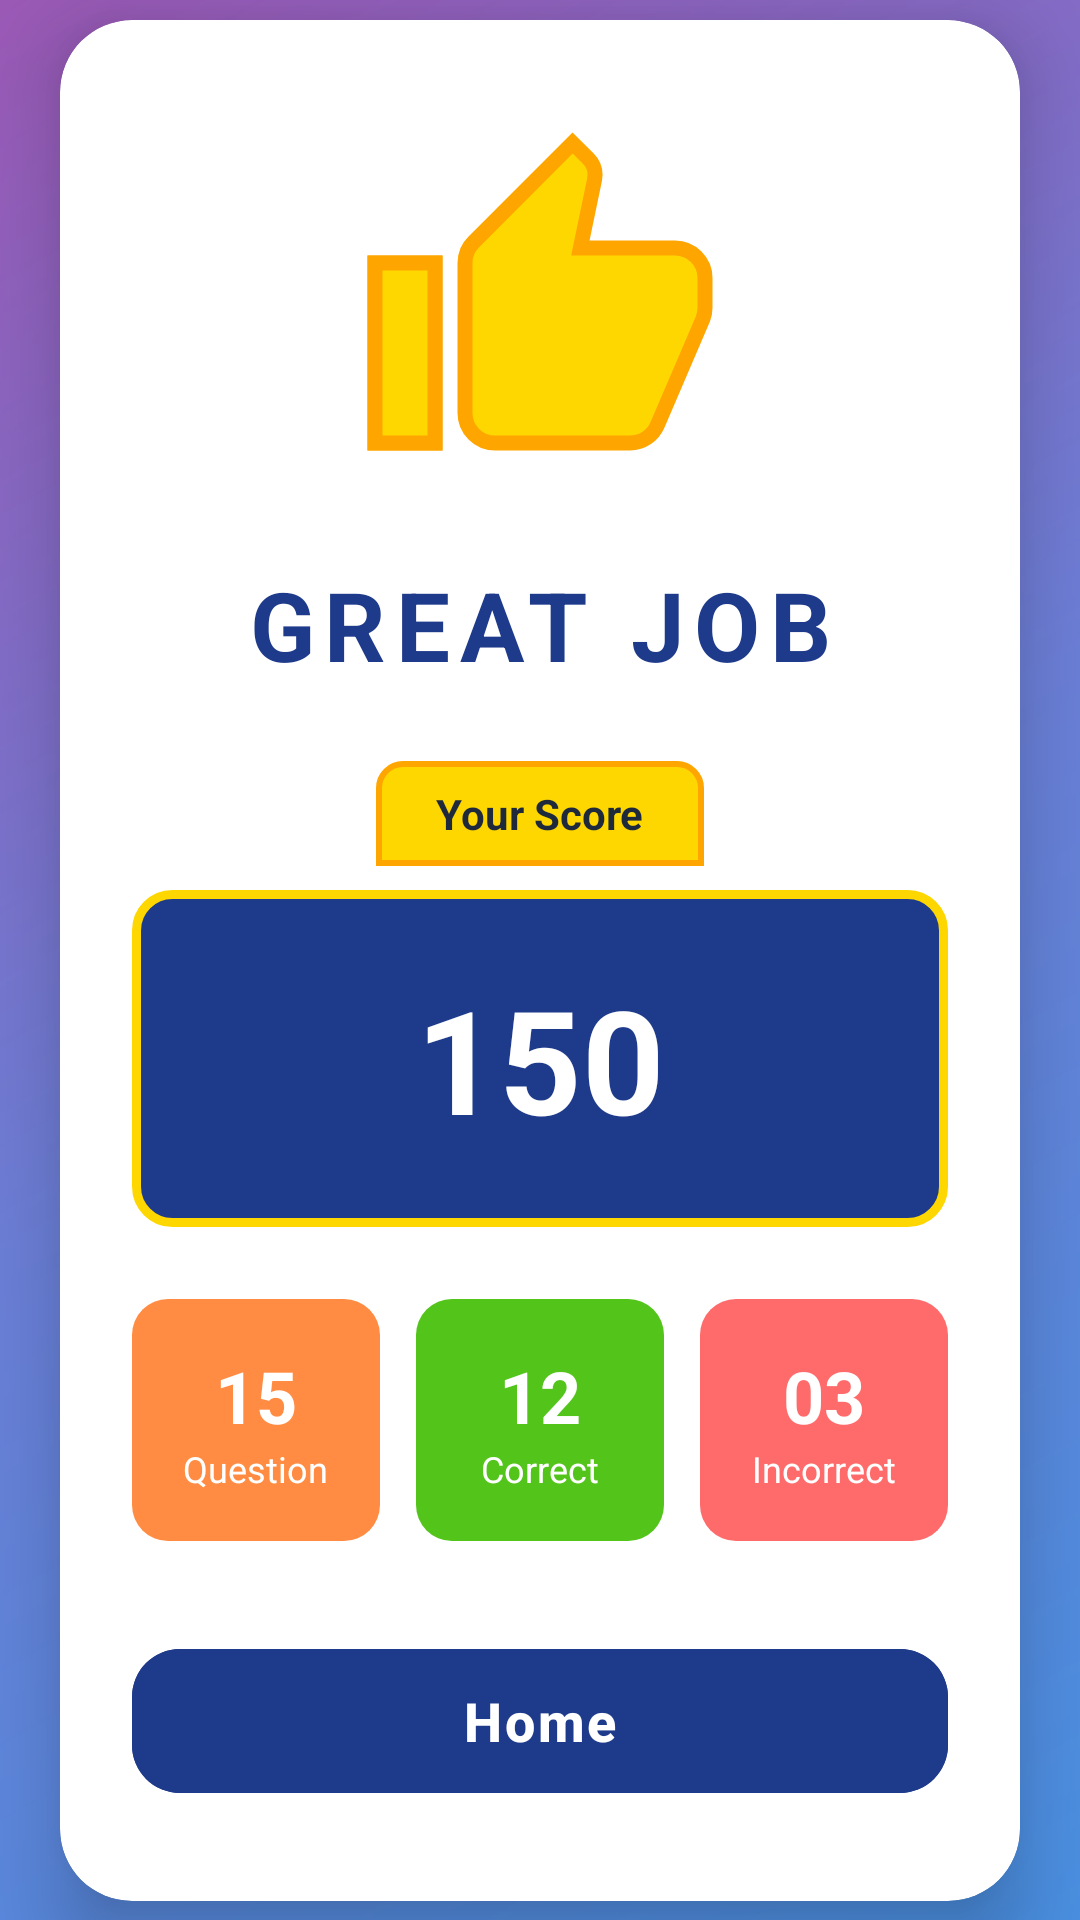

Where to tap for icons on this 1080×1920 app screen, as point (x, y):
thumbs up result: point (540, 291)
